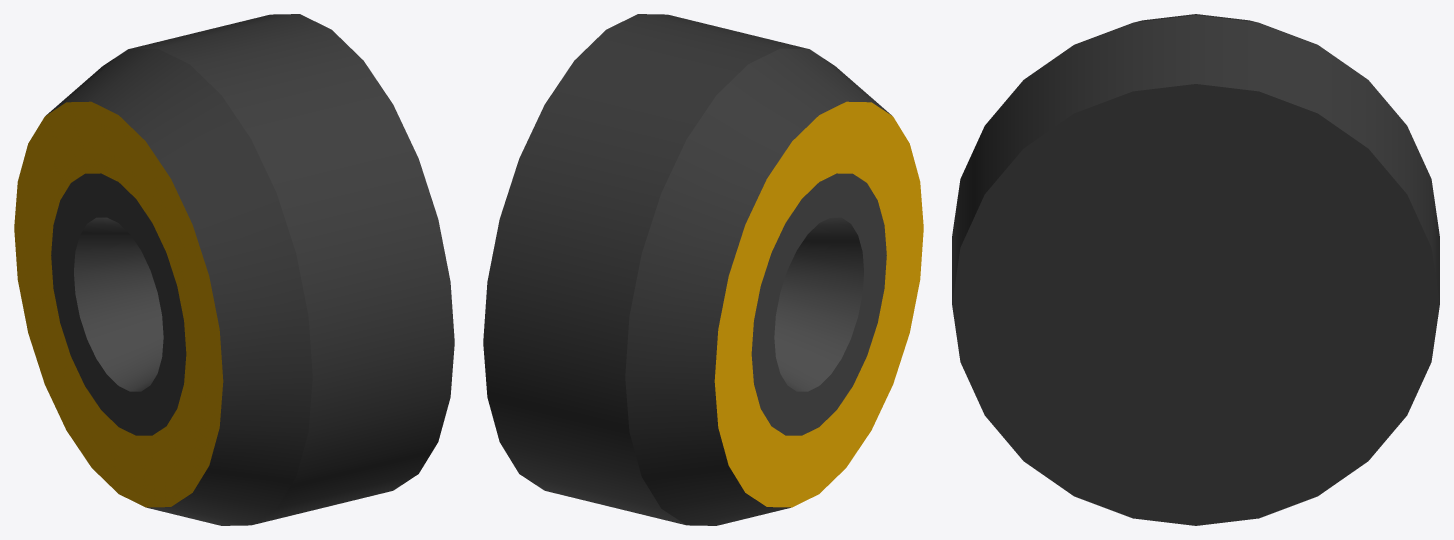
Rendered from SM_Wheel_Racing.fbx.
3 views of the same model, side by side, from view 1: azimuth 30°, elevation 25°; view 2: azimuth 150°, elevation 25°; view 3: azimuth 270°, elevation 25° (orthographic).
Parts seen in each view (by area): view 1: SM_Wheel_Racing; view 2: SM_Wheel_Racing; view 3: SM_Wheel_Racing.
Boxes of the visible parts, x1,y1,x2,y2 form: SM_Wheel_Racing: (14,14,454,525); SM_Wheel_Racing: (483,14,923,525); SM_Wheel_Racing: (952,14,1439,525).
Bounding box in the file's own units: 0.3 × 0.6 × 0.6.
